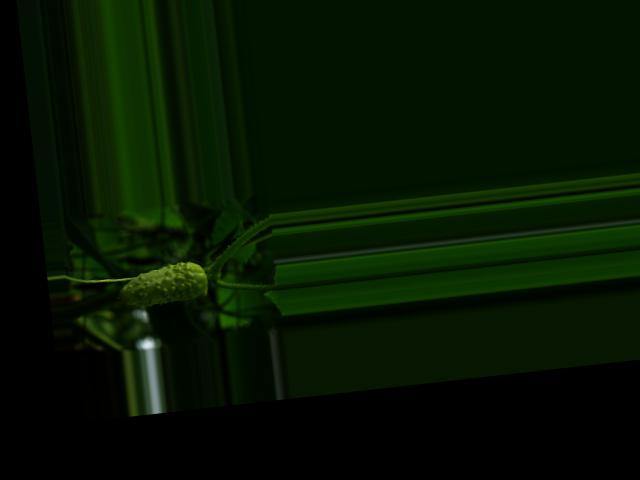cucumber: (113, 258, 209, 308)
